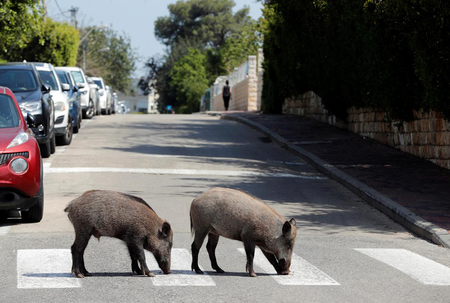boar: (59, 185, 175, 280), (185, 186, 299, 279)
